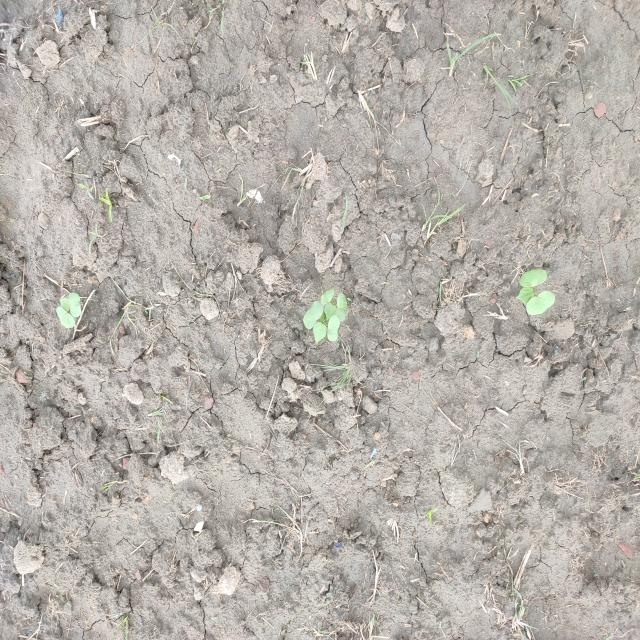seedling: (526, 291, 555, 315), (303, 300, 323, 329), (520, 269, 547, 287), (56, 307, 75, 328), (336, 293, 347, 321), (516, 287, 535, 303), (69, 293, 81, 318), (328, 315, 340, 340), (314, 322, 327, 343), (320, 289, 335, 304), (325, 303, 336, 321), (60, 298, 71, 312)
